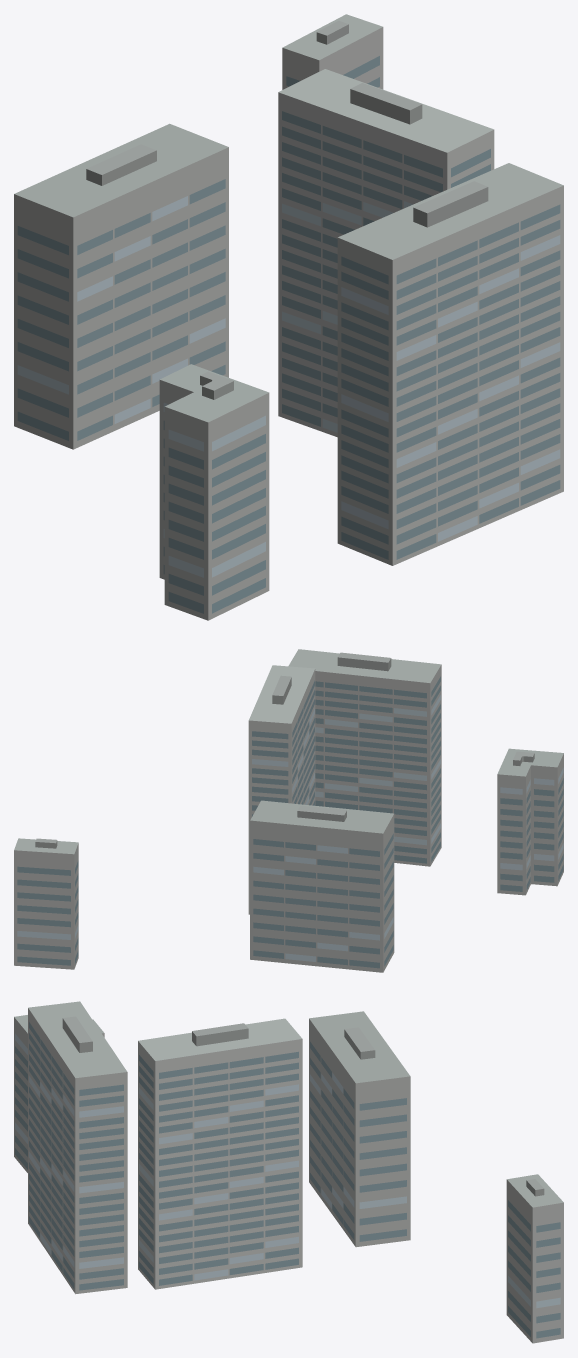
Rendered from apt-a15381402.glb.
The picture shows the model from 3 angles, top to bottom: view 1: azimuth 30°, elevation 25°; view 2: azimuth 150°, elevation 25°; view 3: azimuth 270°, elevation 25°; orthographic projection. The views are drawn at different scales.
Visible parts, largest first — view 1: apt-a15381402; view 2: apt-a15381402; view 3: apt-a15381402.
Part boxes in pixels (left/top/right/bottom): apt-a15381402: left=14, top=14, right=563, bottom=620; apt-a15381402: left=14, top=649, right=563, bottom=972; apt-a15381402: left=14, top=1001, right=563, bottom=1343.
Size of the model in its own units: 98.63 by 57 by 119.
